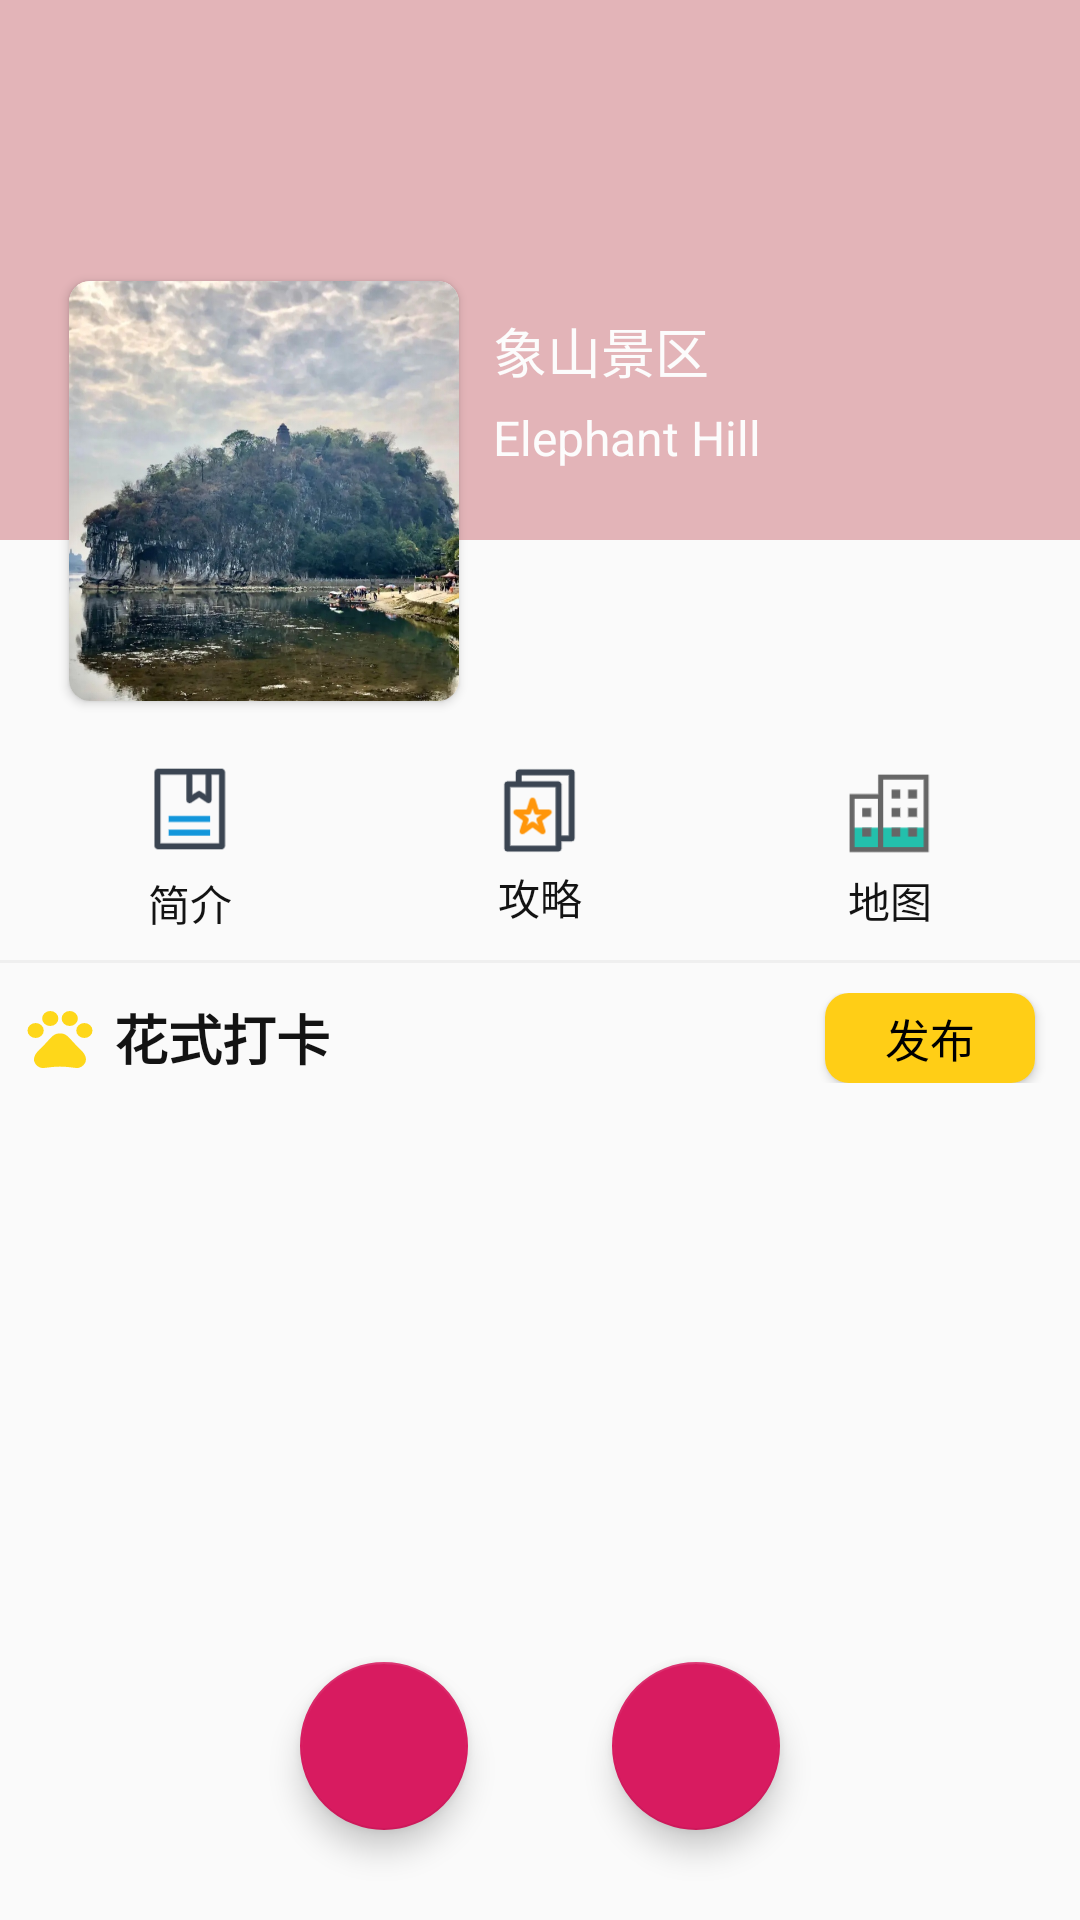

Named icons in this screenshot (1080*1920) and their bounding boxes, [left=x1, top=y1, right=x2, bottom=y2]:
pets: [left=27, top=1011, right=93, bottom=1068]
